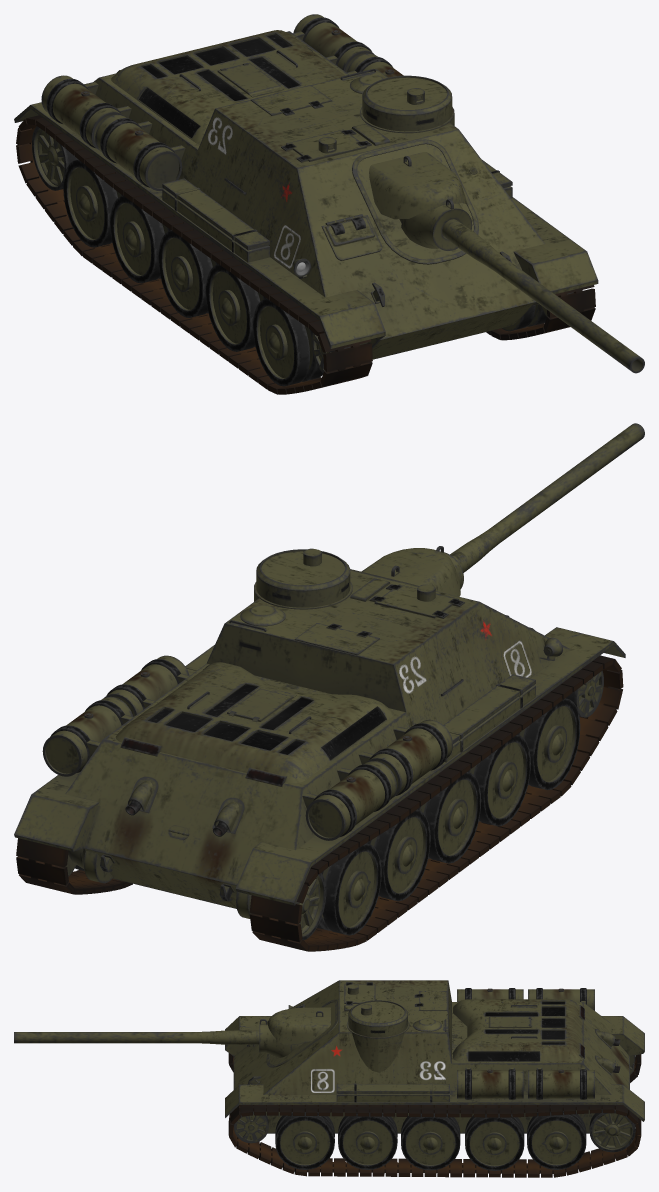
File: su100_hull_m0.obj
3 views of the same model, one above another, from view 1: azimuth 30°, elevation 25°; view 2: azimuth 150°, elevation 25°; view 3: azimuth 270°, elevation 25° (orthographic). The views are drawn at different scales.
Parts seen in each view (by area): view 1: su100_hull_m0; view 2: su100_hull_m0; view 3: su100_hull_m0.
Part boxes in pixels (x1,y1,x2,y2): su100_hull_m0: [14, 14, 644, 394]; su100_hull_m0: [14, 423, 644, 951]; su100_hull_m0: [14, 980, 644, 1177].
Bounding box in the file's own units: 3.19 × 2.31 × 9.04.
Materials: 1 (1 with a texture image).
